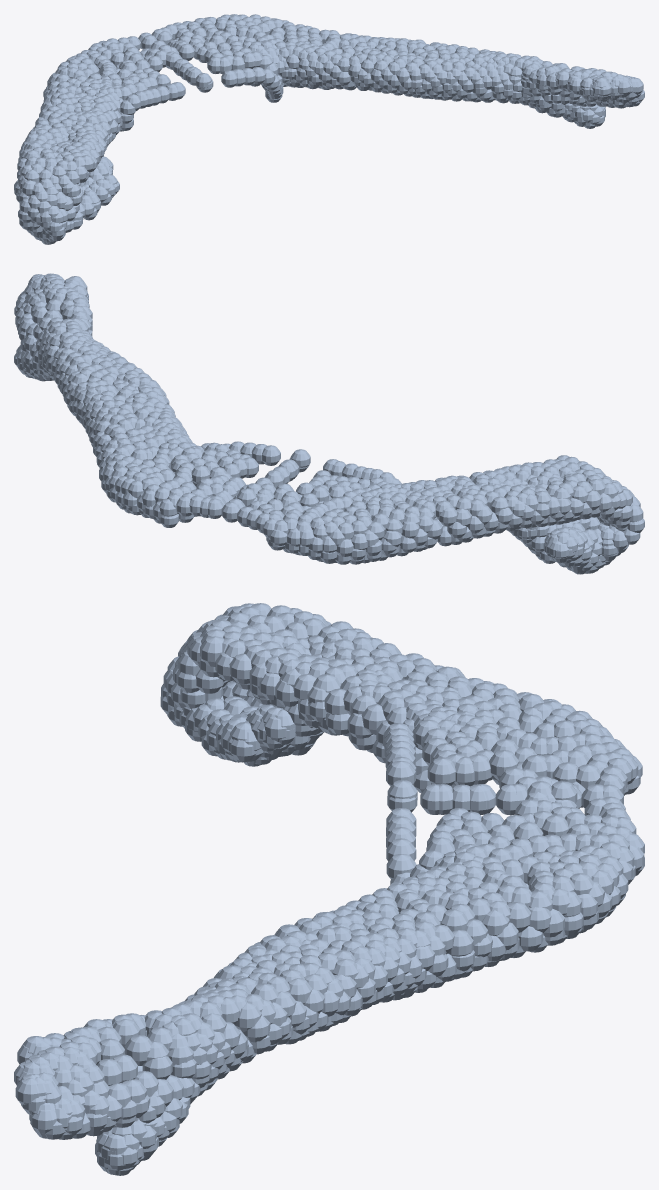
Rendered from ori_pointcloud.glb.
The picture shows the model from 3 angles, top to bottom: view 1: azimuth 30°, elevation 25°; view 2: azimuth 150°, elevation 25°; view 3: azimuth 270°, elevation 25°; orthographic projection. The views are drawn at different scales.
Parts seen in each view (by area): view 1: world; view 2: world; view 3: world.
Boxes of the visible parts, <box> form: world: <box>14,14,644,244</box>; world: <box>14,273,644,574</box>; world: <box>14,603,644,1175</box>.
Size of the model in its own units: 1.5 by 0.2154 by 0.7978.
